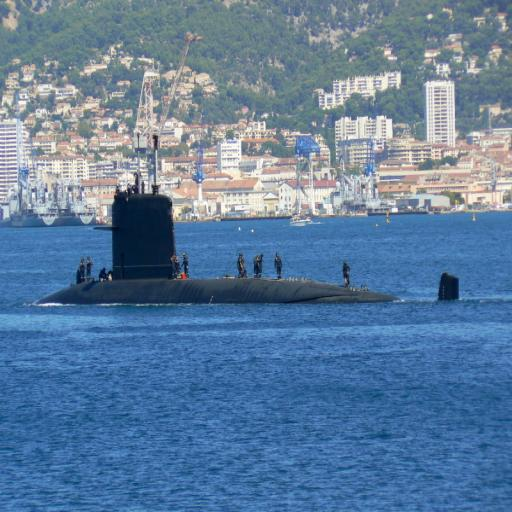submarine: (33, 193, 463, 301)
